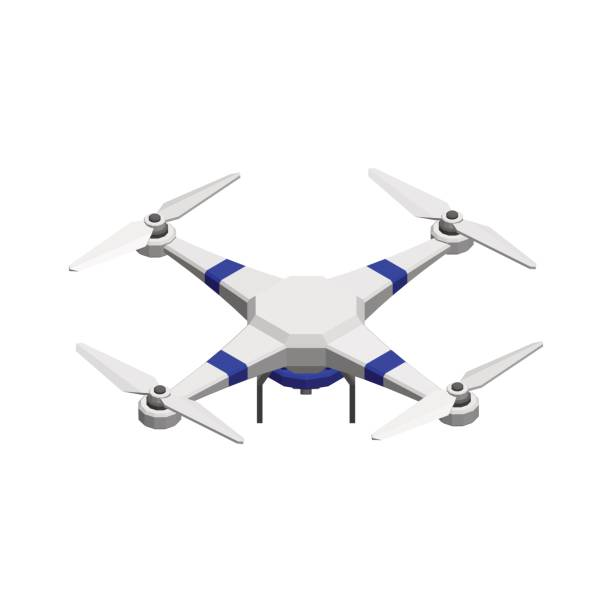Drone: (57, 159, 552, 449)
